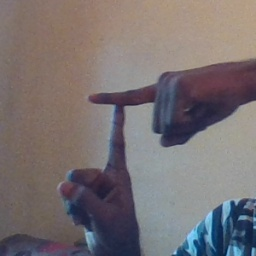T: (68, 68, 178, 188)
